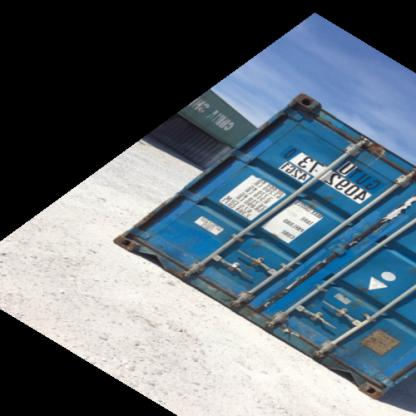Damage: (192, 264, 246, 310), (278, 257, 336, 298), (378, 191, 415, 240), (342, 130, 389, 161)
